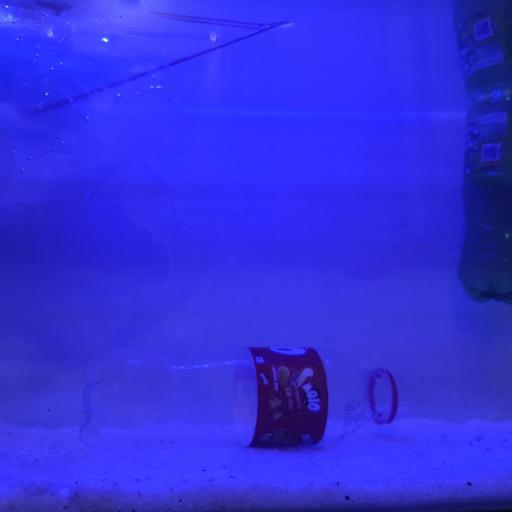plastic_bag: (20, 1, 186, 168)
plastic_bottle: (83, 347, 407, 448), (463, 92, 512, 304)
